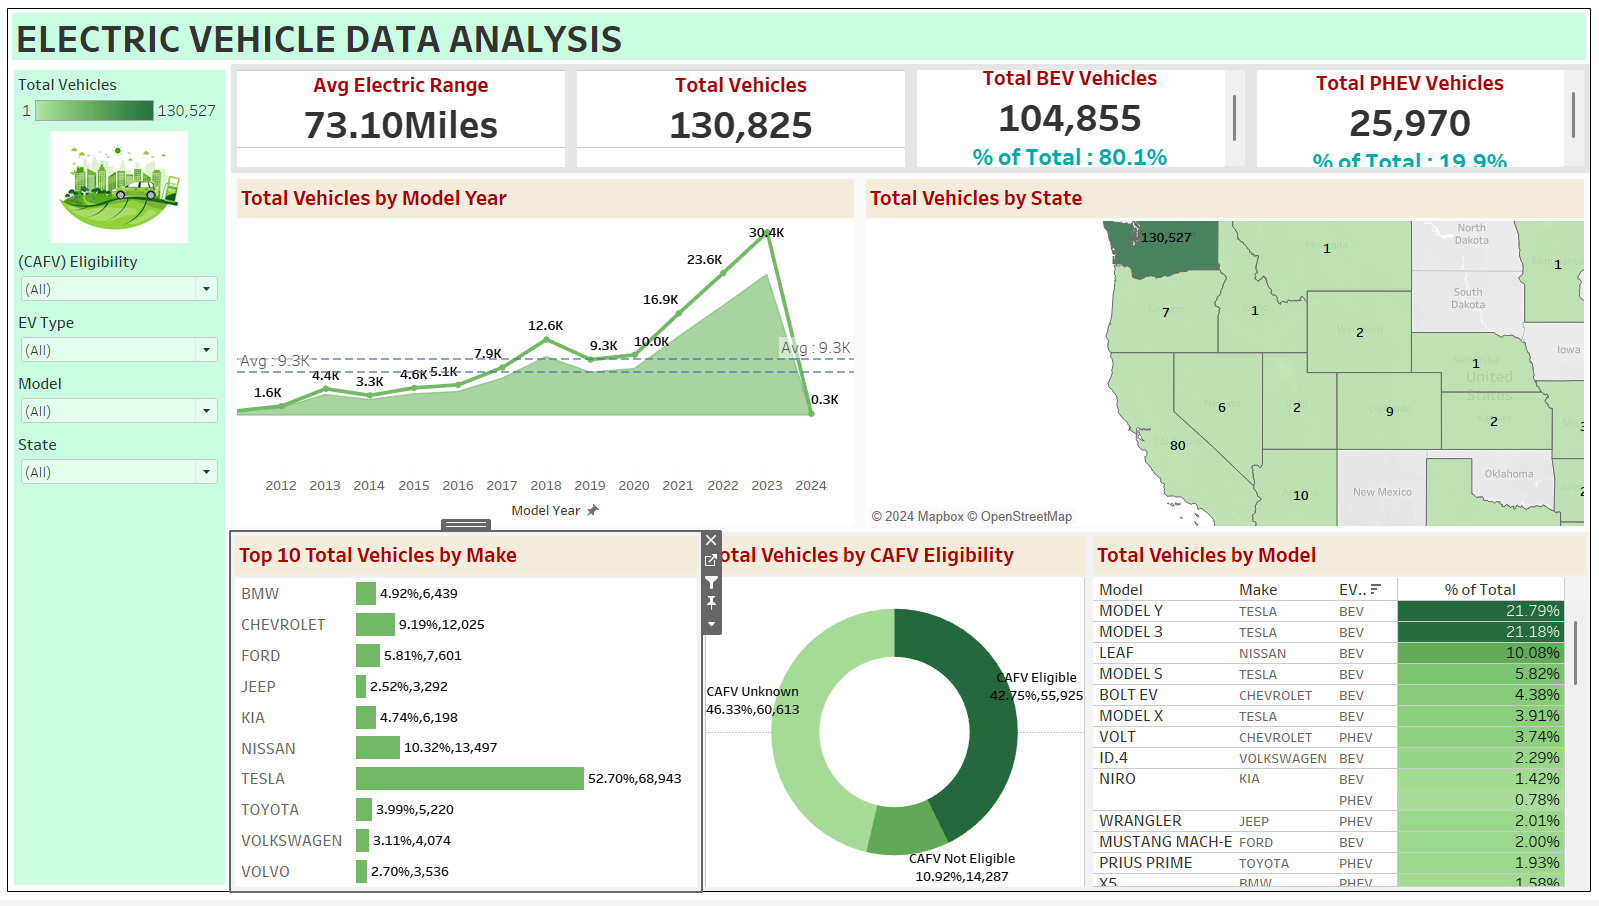

What the dashboard file says about the page in this screenshot:
{"tool":"tableau","page":{"name":"Dashboard 2","canvas":[1600,900],"ordinal":1},"visuals":[{"type":"title","box":[9,9,1582,54.9]},{"type":"worksheet","title":"Avg Electric Rang","mark":"Automatic","box":[232,64,340,109]},{"type":"worksheet","title":"Total Vehicles","mark":"Automatic","box":[572,64,340,109]},{"type":"worksheet","title":"Total BEV Vehicles","mark":"Automatic","box":[912,64,340,109]},{"type":"worksheet","title":"Total PHEV Vehicles","mark":"Automatic","box":[1252,64,339,109]},{"type":"legend","title":"Total Vehicles by State","param":"[federated.1c9ce451uk8zga0zvon960iy3t2t].[usr:Calculation_1083397214108274689:qk","box":[15,69.9,210.7,57]},{"type":"image","param":"C:/Users/Chamika/Downloads/Premium Vector _ Eco car concept on white background_","box":[15,126.9,210.7,120]},{"type":"worksheet","title":"Total Vehicles by Model Year","mark":"Area","rows":["Calculation_1083397214108274689","Calculation_1083397214108274689"],"cols":["Model Year"],"box":[231.7,172.6,629.6,359.2]},{"type":"worksheet","title":"Total Vehicles by State","mark":"Multipolygon","box":[861.3,172.6,729.6,359.2]},{"type":"filter","title":"Total Vehicles by Model Year","param":"[federated.1c9ce451uk8zga0zvon960iy3t2t].[none:Clean Alternative Fuel Vehicle (C","box":[15,246.9,210.7,61]},{"type":"filter","title":"Total Vehicles by Model Year","param":"[federated.1c9ce451uk8zga0zvon960iy3t2t].[none:Electric Vehicle Type:nk]","box":[15,307.9,210.7,61]},{"type":"filter","title":"Total Vehicles by Model Year","param":"[federated.1c9ce451uk8zga0zvon960iy3t2t].[none:Model:nk]","box":[15,368.9,210.7,61]},{"type":"filter","title":"Total Vehicles by Model Year","param":"[federated.1c9ce451uk8zga0zvon960iy3t2t].[none:State:nk]","box":[15,429.9,210.7,61]},{"type":"blank","box":[15,490.9,210.7,56.3]},{"type":"worksheet","title":"Top 10 Total Vehicles by Make","mark":"Automatic","rows":["Make"],"cols":["Calculation_1083397214108274689"],"box":[231.7,531.8,470,359.2]},{"type":"worksheet","title":"Total Vehicles by CAFV Eligibility  ","mark":"Pie","rows":["Calculation_1523905553006161925","Calculation_1523905553006161925"],"box":[701.7,531.8,388.3,359.2]},{"type":"worksheet","title":"Total Vehicles by Model ","mark":"Square","rows":["Model","Make","Electric Vehicle Type"],"box":[1090,531.8,501,359.2]},{"type":"blank","box":[15,547.2,210.7,56.3]},{"type":"blank","box":[15,603.5,210.7,56.3]},{"type":"blank","box":[15,659.8,210.7,56.3]},{"type":"blank","box":[15,716.1,210.7,56.3]},{"type":"blank","box":[15,772.4,210.7,56.3]},{"type":"blank","box":[15,828.7,210.7,56.3]}]}

Visuals, with their boxes in screenshot pixels (x1, y1, x2, y2), scaled from the page's 1600x900 canvas onto the 1599x906 screenshot:
title: locate(9, 9, 1590, 64)
"Avg Electric Rang" worksheet: locate(232, 64, 572, 174)
"Total Vehicles" worksheet: locate(572, 64, 911, 174)
"Total BEV Vehicles" worksheet: locate(911, 64, 1251, 174)
"Total PHEV Vehicles" worksheet: locate(1251, 64, 1590, 174)
"Total Vehicles by State" legend: locate(15, 70, 226, 128)
image: locate(15, 128, 226, 249)
"Total Vehicles by Model Year" worksheet (Area marks): locate(232, 174, 861, 535)
"Total Vehicles by State" worksheet (Multipolygon marks): locate(861, 174, 1590, 535)
"Total Vehicles by Model Year" filter: locate(15, 249, 226, 310)
"Total Vehicles by Model Year" filter: locate(15, 310, 226, 371)
"Total Vehicles by Model Year" filter: locate(15, 371, 226, 433)
"Total Vehicles by Model Year" filter: locate(15, 433, 226, 494)
blank: locate(15, 494, 226, 551)
"Top 10 Total Vehicles by Make" worksheet: locate(232, 535, 701, 897)
"Total Vehicles by CAFV Eligibility  " worksheet (Pie marks): locate(701, 535, 1089, 897)
"Total Vehicles by Model " worksheet (Square marks): locate(1089, 535, 1590, 897)
blank: locate(15, 551, 226, 608)
blank: locate(15, 608, 226, 664)
blank: locate(15, 664, 226, 721)
blank: locate(15, 721, 226, 778)
blank: locate(15, 778, 226, 834)
blank: locate(15, 834, 226, 891)
